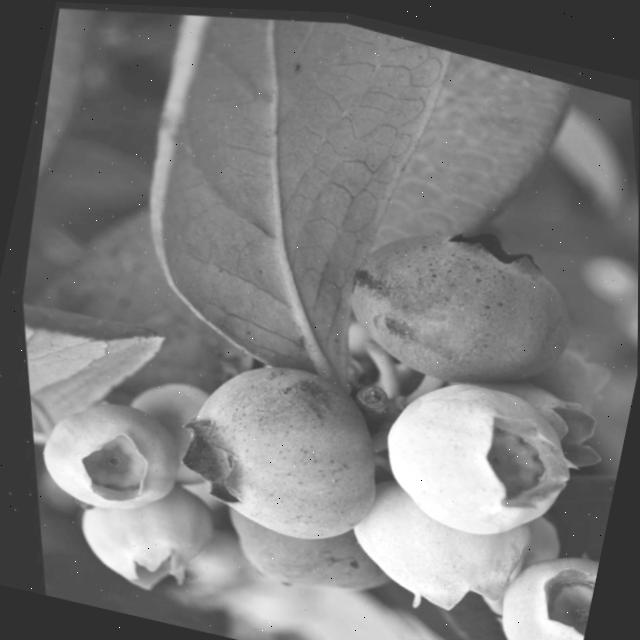RipeBlueBerry: (310, 175, 597, 418), (464, 511, 604, 640)
Semi-RipeBlueBerry: (138, 322, 398, 572)
UnripeBlueBerry: (344, 335, 593, 563), (7, 369, 199, 538)
